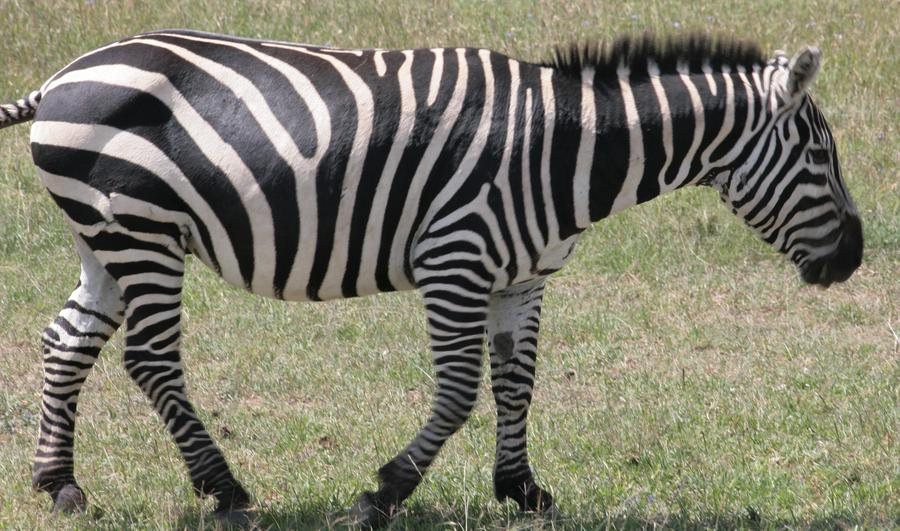zebra_plains: (81, 29, 530, 288)
